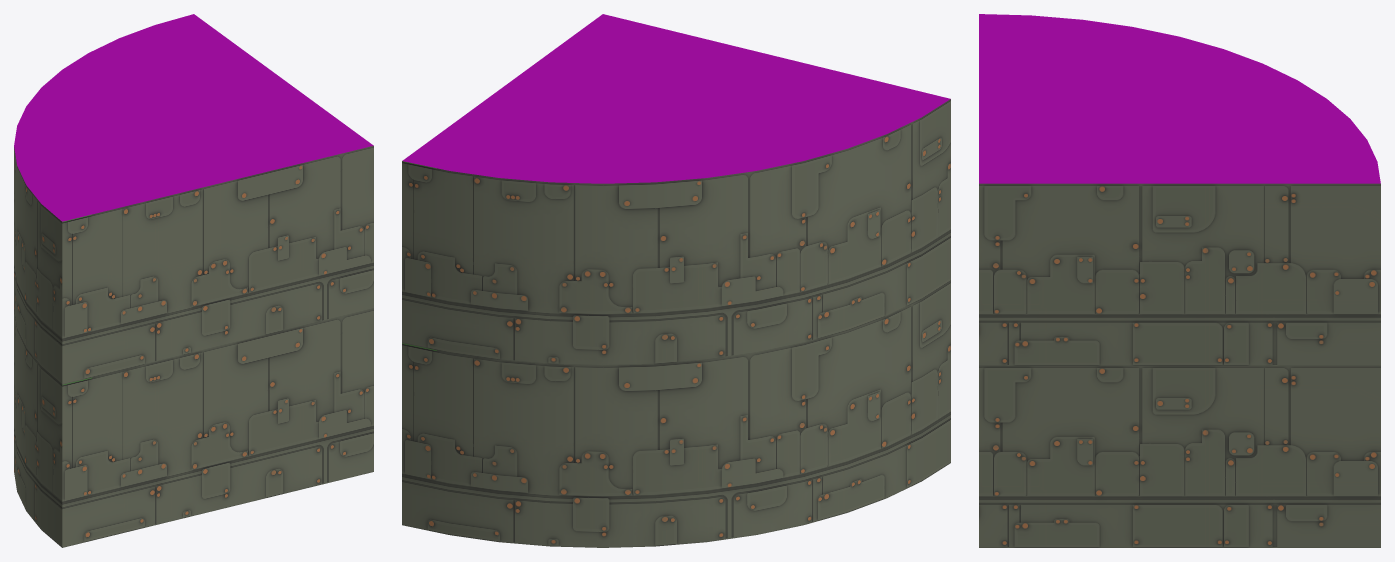
The model's file is Block_Curved_Large_Top_Fill.fbx.
3 renders of one model, left to right at view 1: azimuth 30°, elevation 25°; view 2: azimuth 150°, elevation 25°; view 3: azimuth 270°, elevation 25°, orthographic. The views are drawn at different scales.
Visible parts, largest first — view 1: Block_Curved_Large_Top_Fill, Block_Curved_Large_Fill; view 2: Block_Curved_Large_Top_Fill, Block_Curved_Large_Fill; view 3: Block_Curved_Large_Top_Fill, Block_Curved_Large_Fill.
Boxes of the visible parts, left/top/right/bottom form: Block_Curved_Large_Top_Fill: left=14, top=14, right=373, bottom=384; Block_Curved_Large_Fill: left=14, top=309, right=373, bottom=547; Block_Curved_Large_Top_Fill: left=402, top=14, right=950, bottom=365; Block_Curved_Large_Fill: left=402, top=281, right=950, bottom=547; Block_Curved_Large_Top_Fill: left=979, top=14, right=1380, bottom=365; Block_Curved_Large_Fill: left=979, top=366, right=1380, bottom=547.
Bounding box in the file's own units: 200 × 200 × 200.
